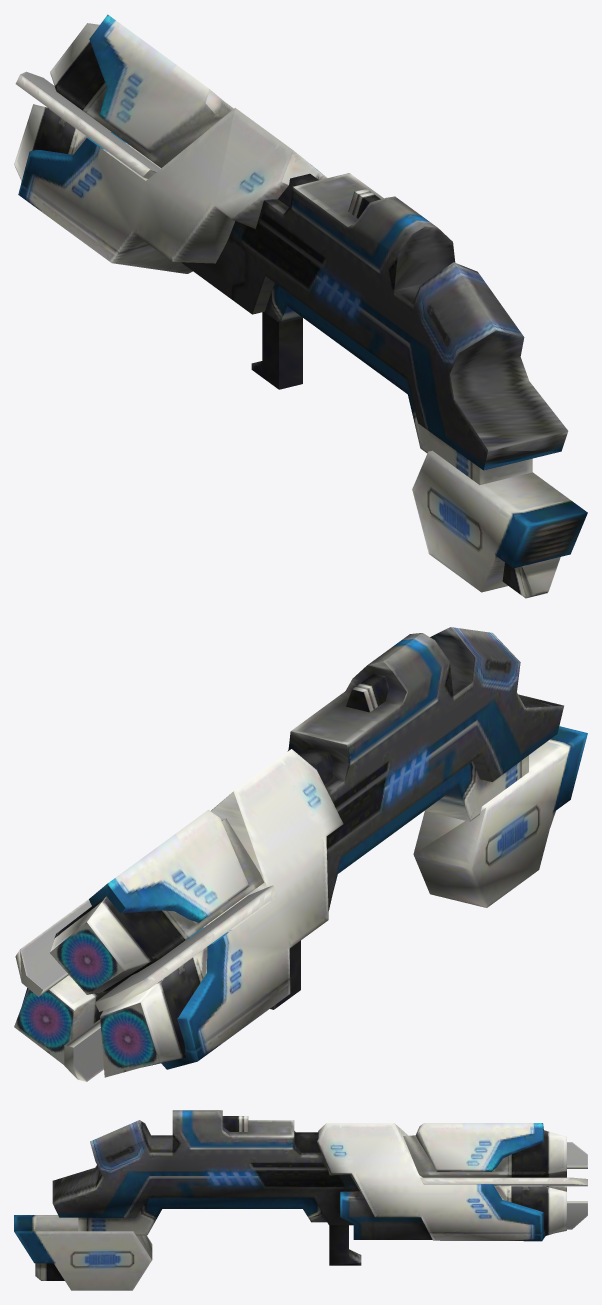
File: gun30_body.obj
The picture shows the model from 3 angles, top to bottom: view 1: azimuth 30°, elevation 25°; view 2: azimuth 150°, elevation 25°; view 3: azimuth 270°, elevation 25°; orthographic projection. The views are drawn at different scales.
Parts seen in each view (by area): view 1: gun30_body; view 2: gun30_body; view 3: gun30_body.
Part boxes in pixels (x1,y1,x2,y2): gun30_body: (14, 14, 587, 598); gun30_body: (14, 627, 587, 1081); gun30_body: (14, 1110, 587, 1290).
Size of the model in its own units: 0.437 by 0.6811 by 2.06.
Materials: 1 (1 with a texture image).
